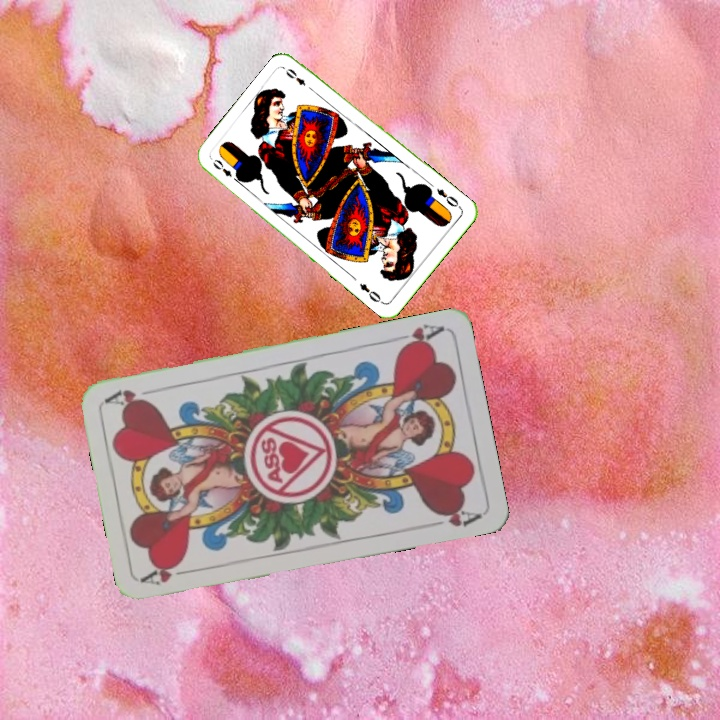EO: (209, 155, 242, 185), (432, 184, 461, 210)
HA: (387, 320, 446, 353), (139, 558, 198, 588)
